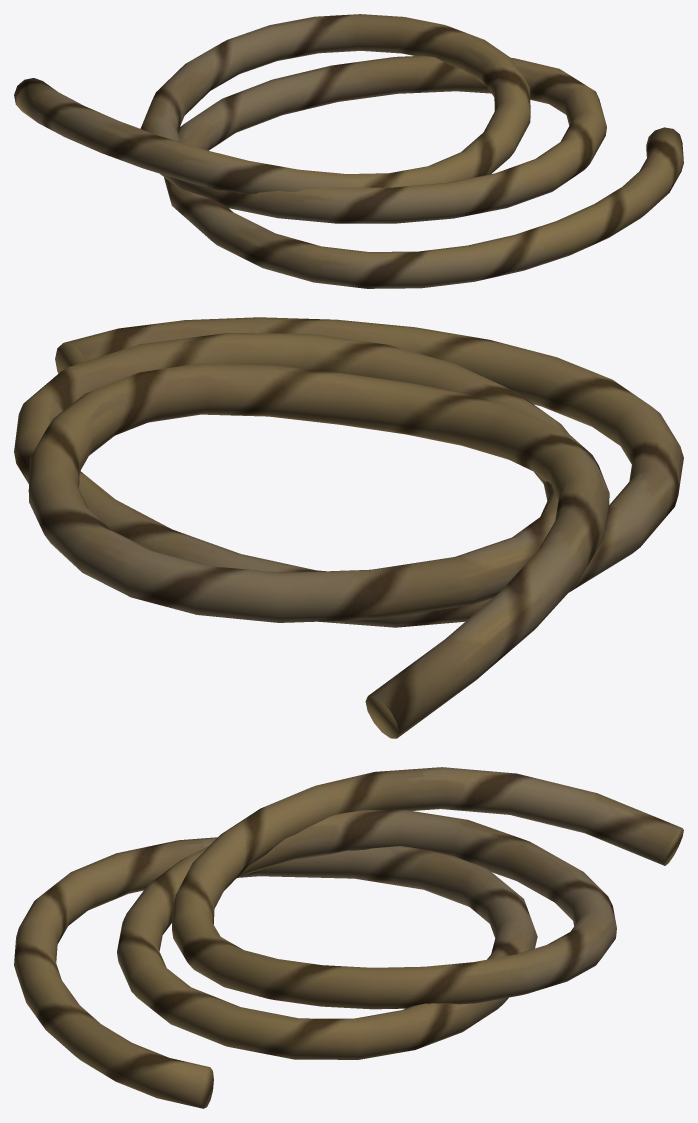
Rendered from Rope_2.gltf.
3 renders of one model, top to bottom at view 1: azimuth 30°, elevation 25°; view 2: azimuth 150°, elevation 25°; view 3: azimuth 270°, elevation 25°, orthographic. The views are drawn at different scales.
Parts seen in each view (by area): view 1: Rope_2; view 2: Rope_2; view 3: Rope_2.
Boxes of the visible parts, left/top/right/bottom form: Rope_2: left=14, top=14, right=683, bottom=288; Rope_2: left=14, top=317, right=683, bottom=738; Rope_2: left=14, top=767, right=683, bottom=1108.
Size of the model in its own units: 0.8078 by 0.1236 by 0.845.
1 material, 1 textured.
